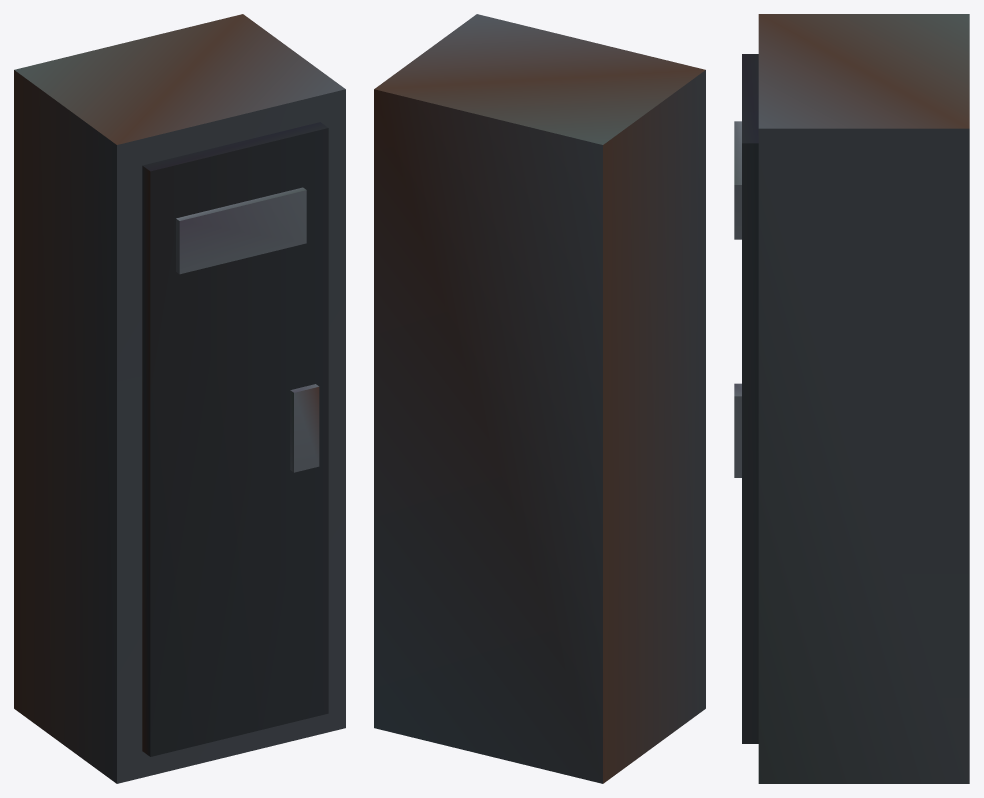
The model's file is locker.glb.
3 views of the same model, side by side, from view 1: azimuth 30°, elevation 25°; view 2: azimuth 150°, elevation 25°; view 3: azimuth 270°, elevation 25° (orthographic). The views are drawn at different scales.
Parts seen in each view (by area): view 1: locker; view 2: locker; view 3: locker.
Part boxes in pixels (bbox=[...]): locker: bbox=[14, 14, 345, 783]; locker: bbox=[374, 14, 705, 783]; locker: bbox=[734, 14, 969, 783].
Bounding box in the file's own units: 18 × 48 × 15.6.
